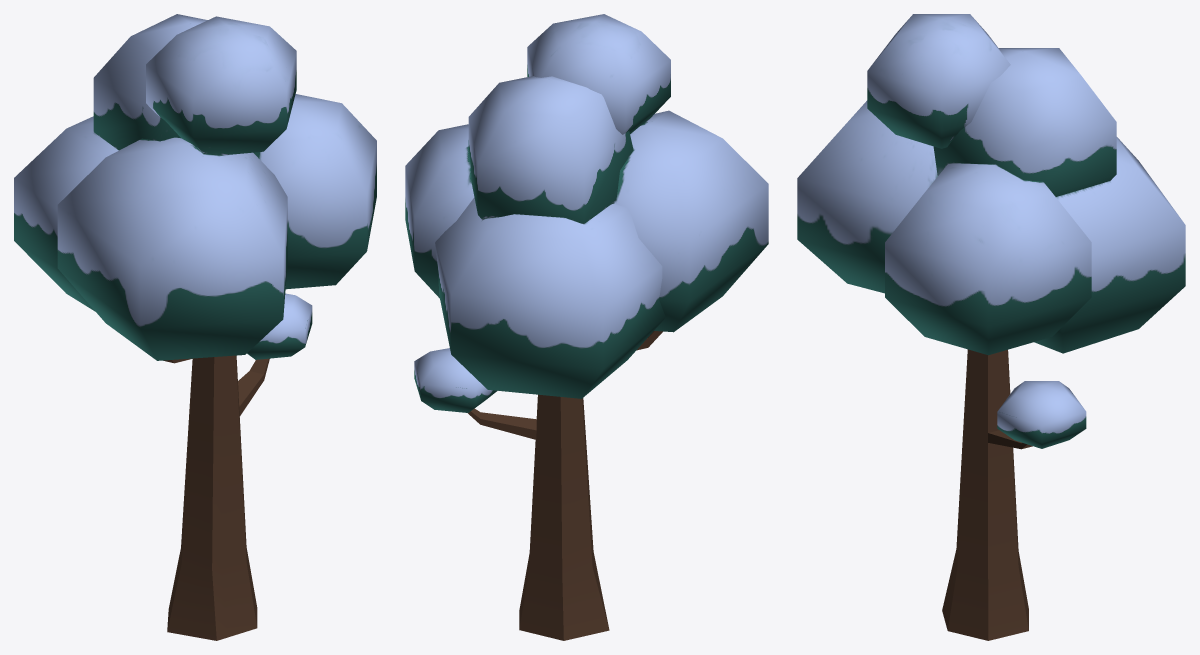
File: Tree_Snow_Model.fbx
3 renders of one model, left to right at view 1: azimuth 30°, elevation 25°; view 2: azimuth 150°, elevation 25°; view 3: azimuth 270°, elevation 25°, orthographic. The views are drawn at different scales.
Parts seen in each view (by area): view 1: pSphere7; view 2: pSphere7; view 3: pSphere7.
Boxes of the visible parts, x1,y1,x2,y2 form: pSphere7: (14,14,376,640); pSphere7: (405,14,768,640); pSphere7: (797,14,1185,640).
Bounding box in the file's own units: 10.69 × 20.3 × 11.99.
Materials: 2 (2 with a texture image).
